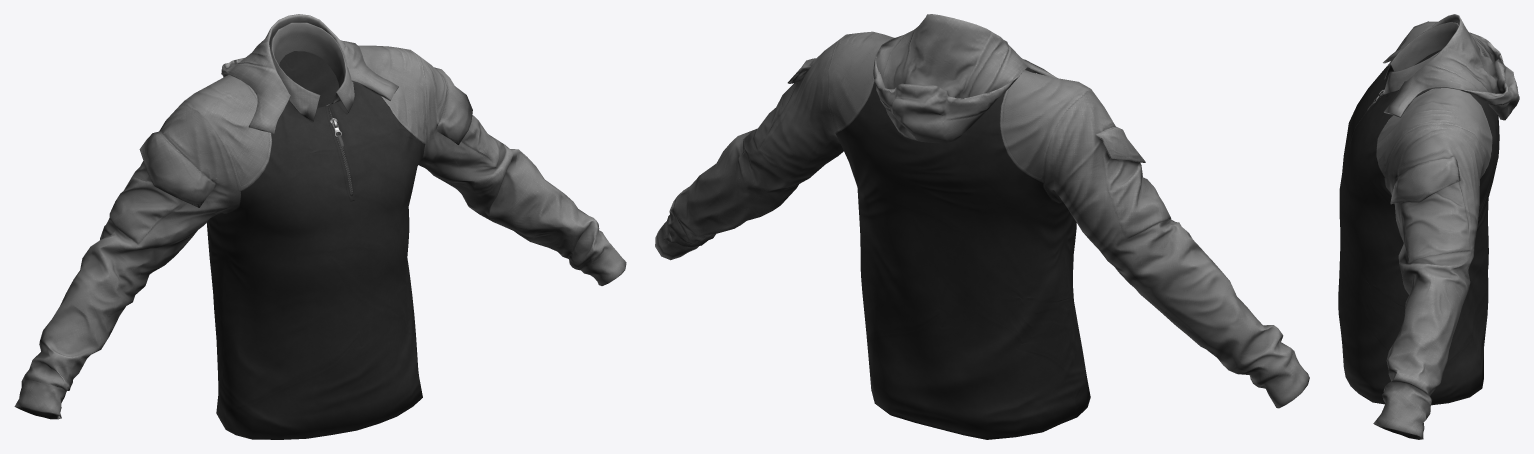
The picture shows the model from 3 angles, left to right: view 1: azimuth 30°, elevation 25°; view 2: azimuth 150°, elevation 25°; view 3: azimuth 270°, elevation 25°; orthographic projection. The views are drawn at different scales.
Parts seen in each view (by area): view 1: Low Poly Sviter_Material #26_0; view 2: Low Poly Sviter_Material #26_0; view 3: Low Poly Sviter_Material #26_0.
Boxes of the visible parts, x1=… form: Low Poly Sviter_Material #26_0: x1=14, y1=14, x2=626, y2=439; Low Poly Sviter_Material #26_0: x1=655, y1=14, x2=1309, y2=439; Low Poly Sviter_Material #26_0: x1=1338, y1=14, x2=1519, y2=439.
Bounding box in the file's own units: 3.01 × 1.79 × 0.8412.
2 materials, 2 textured.
